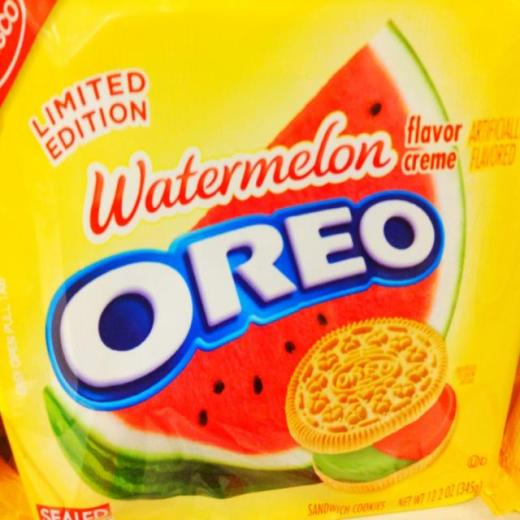Cherry: (44, 19, 467, 502)
